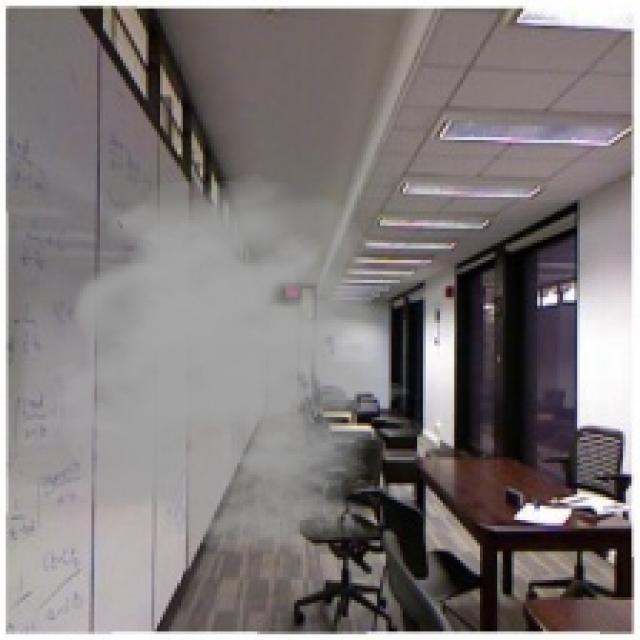Smoke: (40, 175, 429, 554)
